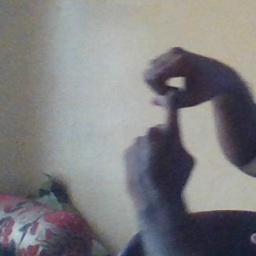Q: (119, 46, 215, 184)
